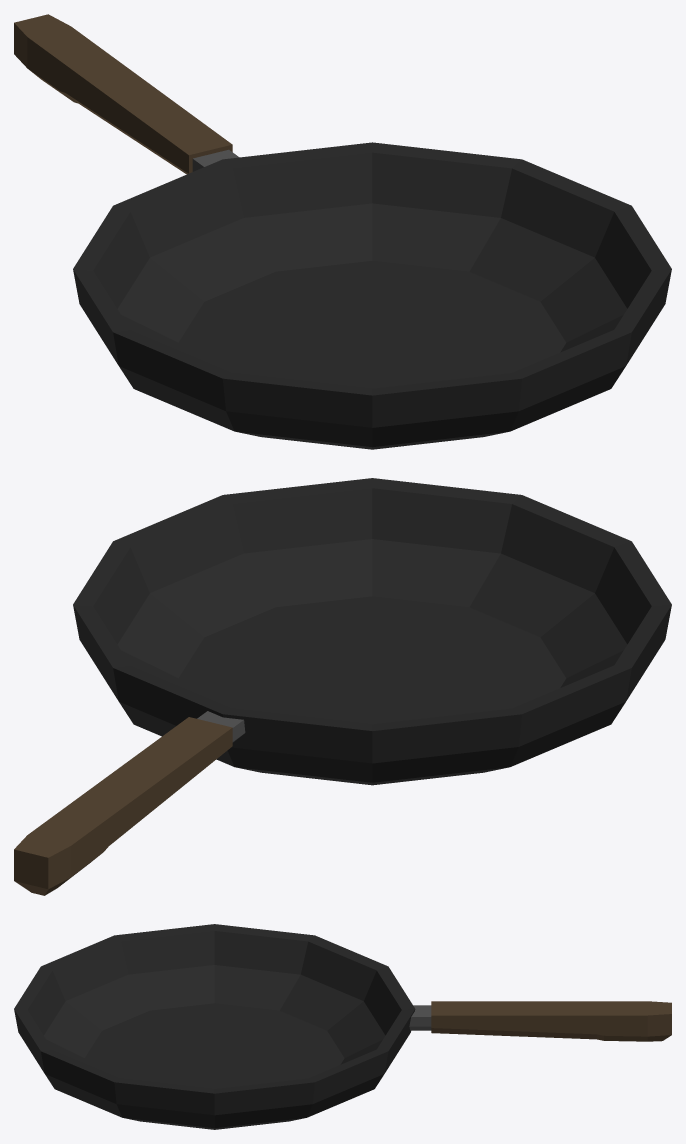
Rendered from pan.glb.
The picture shows the model from 3 angles, top to bottom: view 1: azimuth 30°, elevation 25°; view 2: azimuth 150°, elevation 25°; view 3: azimuth 270°, elevation 25°; orthographic projection. The views are drawn at different scales.
Visible parts, largest first — view 1: pan; view 2: pan; view 3: pan.
Part boxes in pixels (x1,y1,x2,y2): pan: (14, 14, 671, 449); pan: (14, 478, 671, 895); pan: (14, 924, 671, 1129).
Bounding box in the file's own units: 0.2745 × 0.0545 × 0.45.
